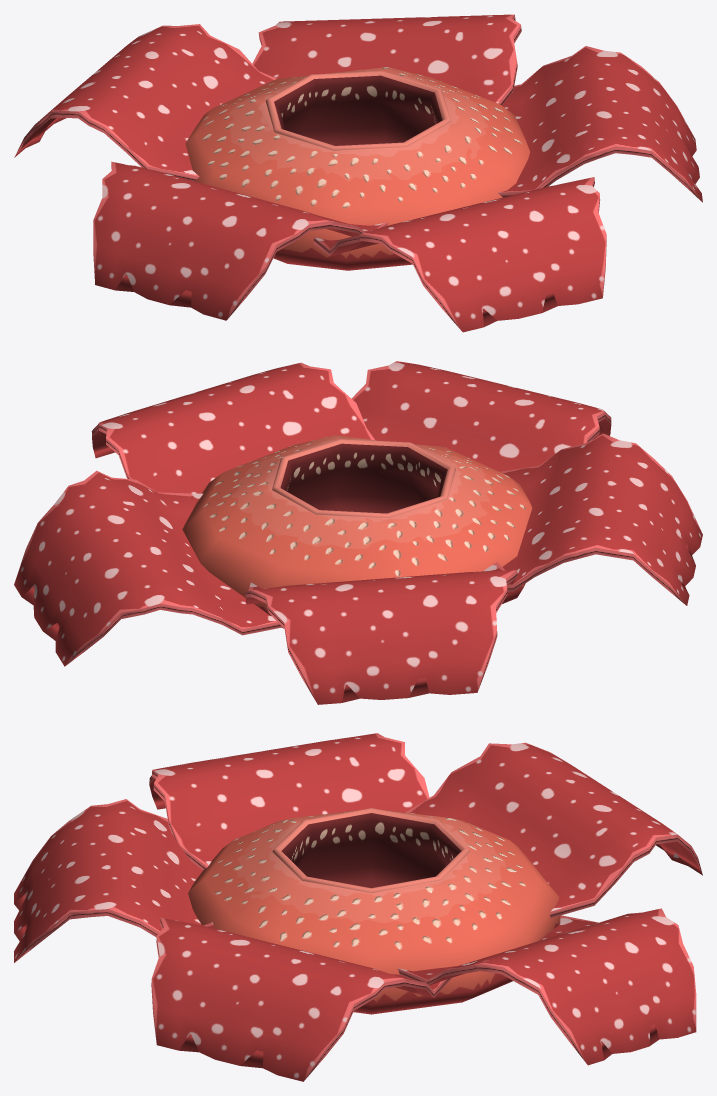
The model's file is Poisonous flower.fbx.
3 renders of one model, top to bottom at view 1: azimuth 30°, elevation 25°; view 2: azimuth 150°, elevation 25°; view 3: azimuth 270°, elevation 25°, orthographic. The views are drawn at different scales.
Parts seen in each view (by area): view 1: Poisonous_flower; view 2: Poisonous_flower; view 3: Poisonous_flower.
Boxes of the visible parts, x1,y1,x2,y2 form: Poisonous_flower: [14, 14, 702, 332]; Poisonous_flower: [14, 361, 702, 704]; Poisonous_flower: [14, 733, 702, 1081].
Size of the model in its own units: 2.96 by 0.5205 by 2.89.
